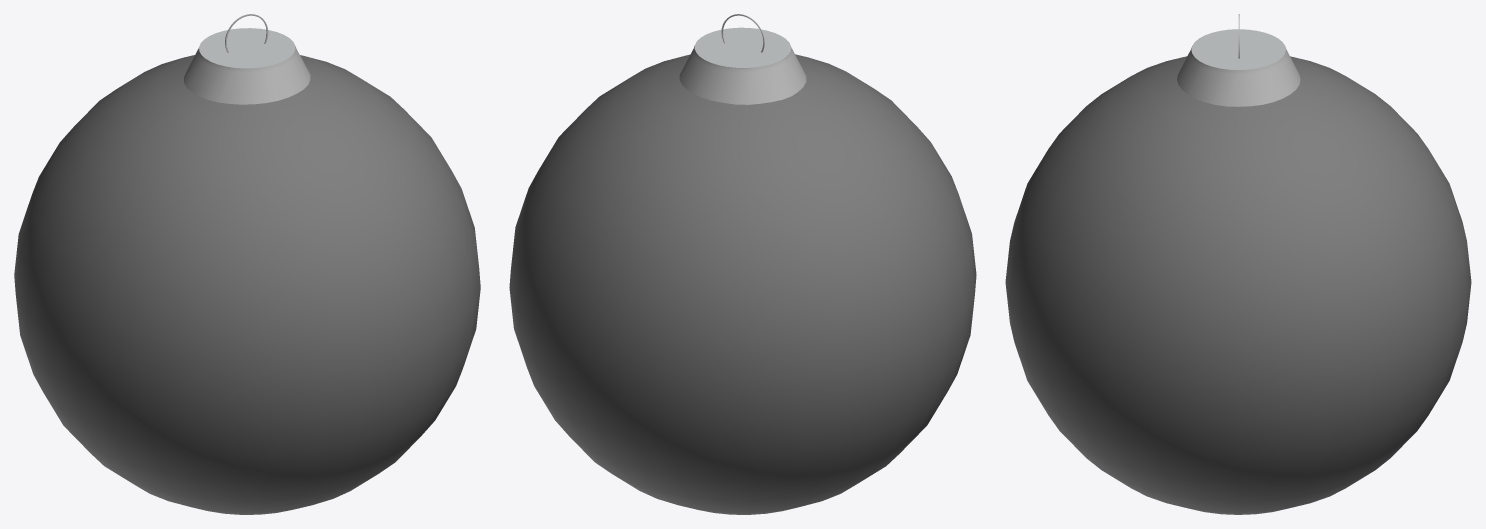
The picture shows the model from 3 angles, left to right: view 1: azimuth 30°, elevation 25°; view 2: azimuth 150°, elevation 25°; view 3: azimuth 270°, elevation 25°; orthographic projection.
Visible parts, largest first — view 1: Christmas Snowman Ball_0; view 2: Christmas Snowman Ball_0; view 3: Christmas Snowman Ball_0.
Part boxes in pixels (x1,y1,x2,y2): Christmas Snowman Ball_0: (14,14,480,514); Christmas Snowman Ball_0: (509,14,976,514); Christmas Snowman Ball_0: (1005,14,1471,514).
Bounding box in the file's own units: 0.0824 × 0.0931 × 0.0824.
